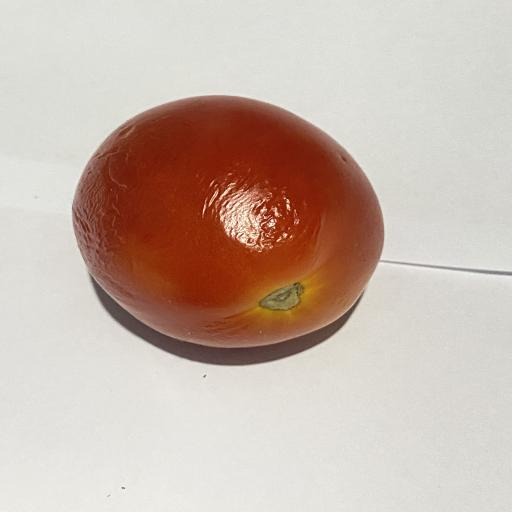spoiled: (72, 96, 383, 347)
